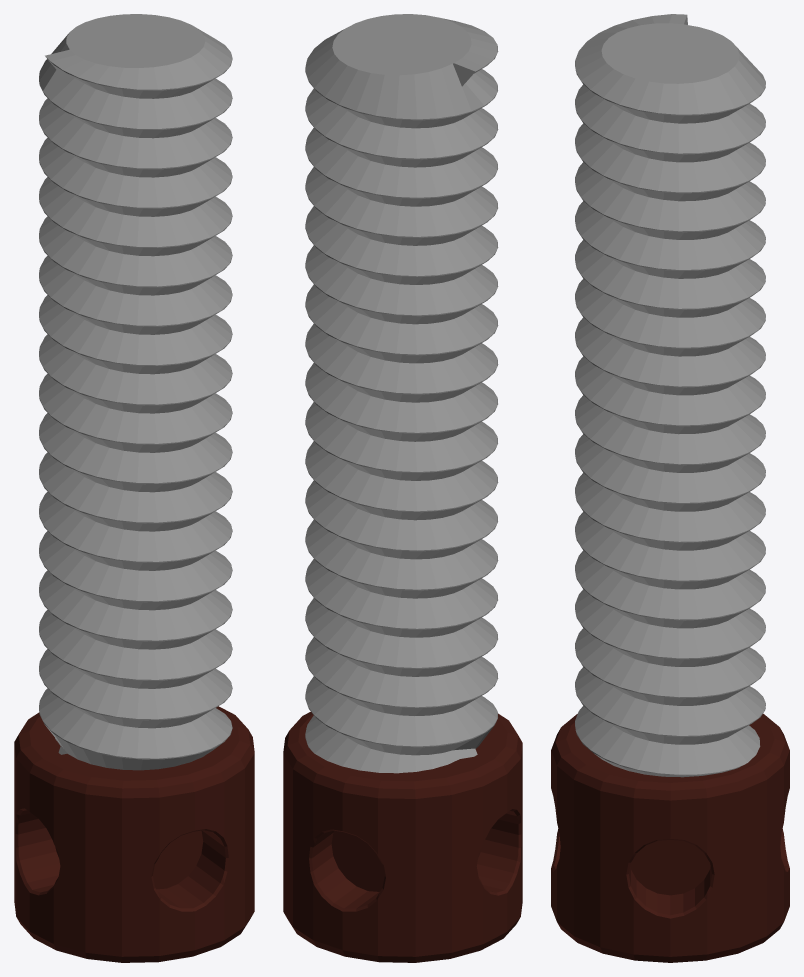
Rendered from prensaPrensa.fbx.
3 views of the same model, side by side, from view 1: azimuth 30°, elevation 25°; view 2: azimuth 150°, elevation 25°; view 3: azimuth 270°, elevation 25° (orthographic).
Parts seen in each view (by area): view 1: Prensa; view 2: Prensa; view 3: Prensa.
Boxes of the visible parts, x1=… form: Prensa: x1=14, y1=14, x2=254, y2=962; Prensa: x1=283, y1=14, x2=522, y2=962; Prensa: x1=551, y1=14, x2=789, y2=962.
Bounding box in the file's own units: 200 × 801 × 200.
